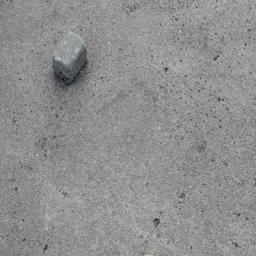FOD: (49, 30, 92, 89)
